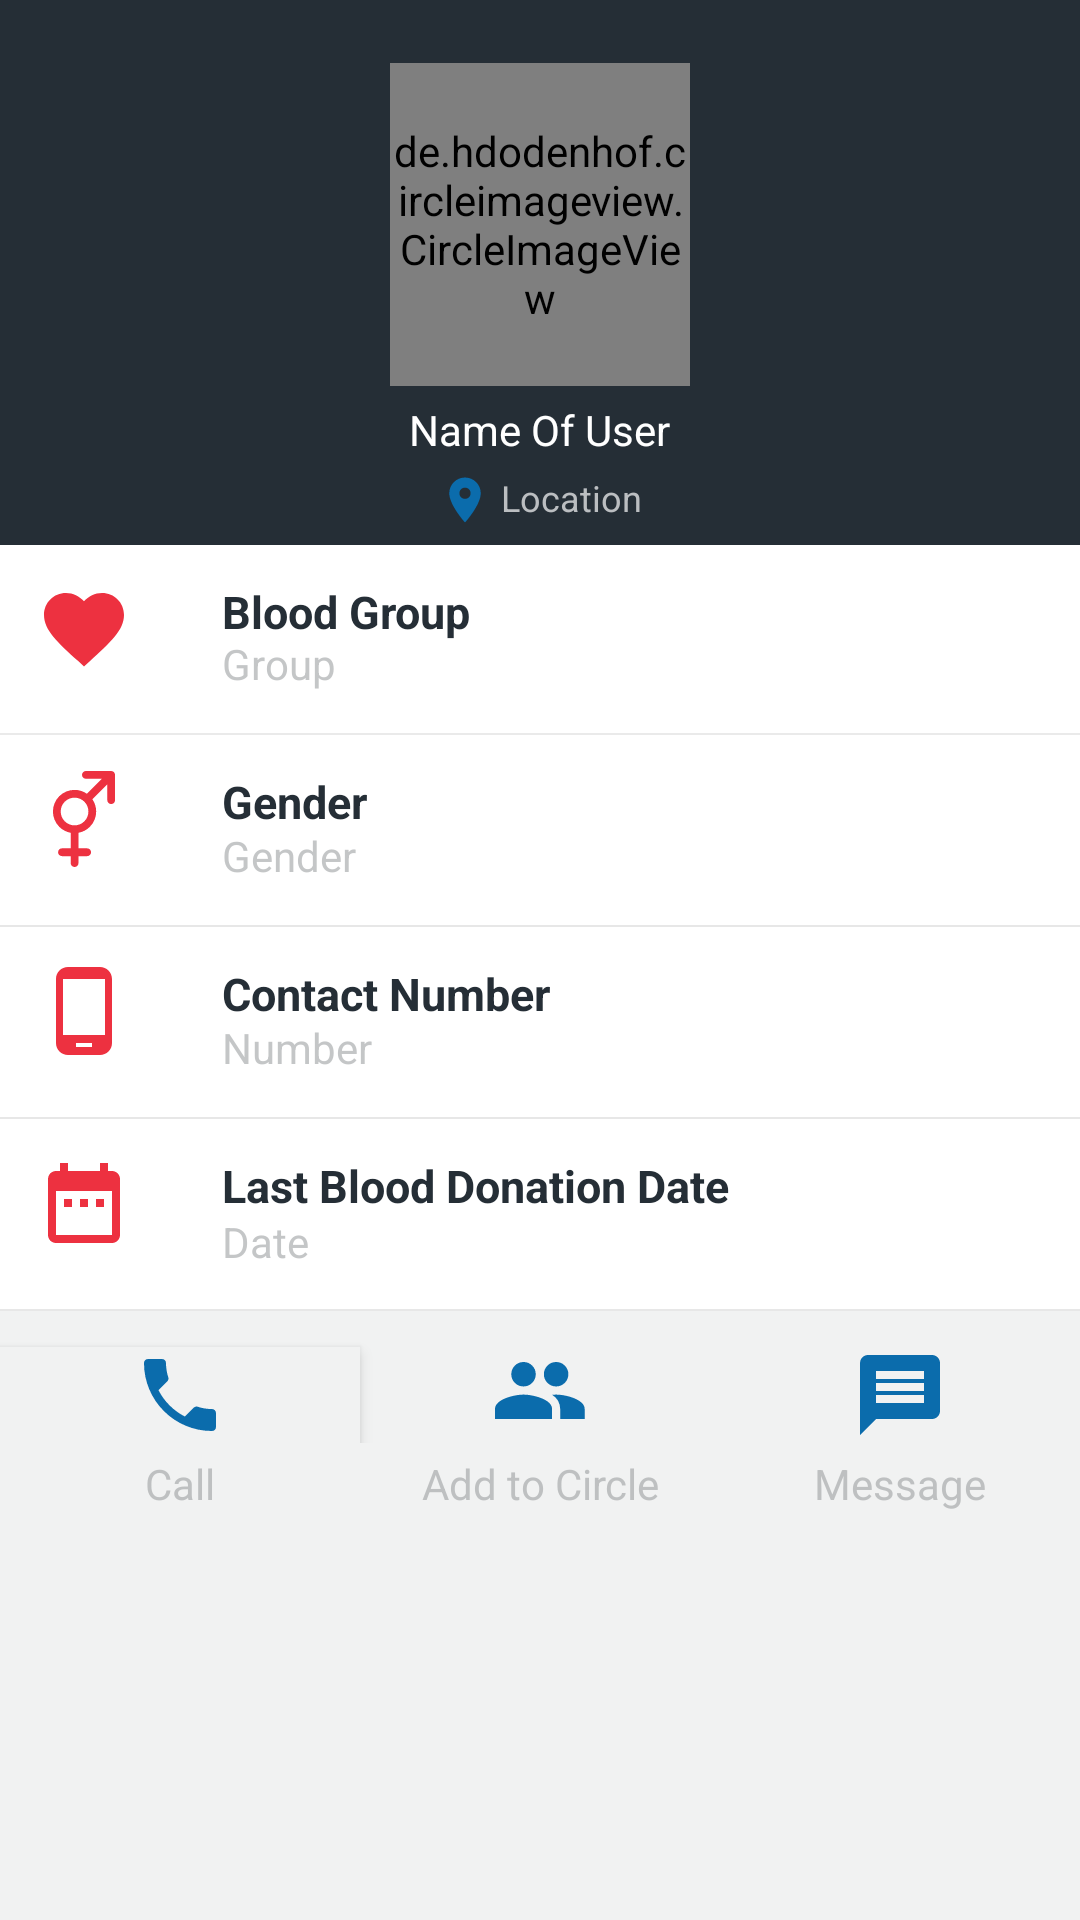

Named icons in this screenshot (1080w x 1920h) and their bounding boxes, (x1, y1, x2, y2):
people: (495, 1362, 585, 1419)
